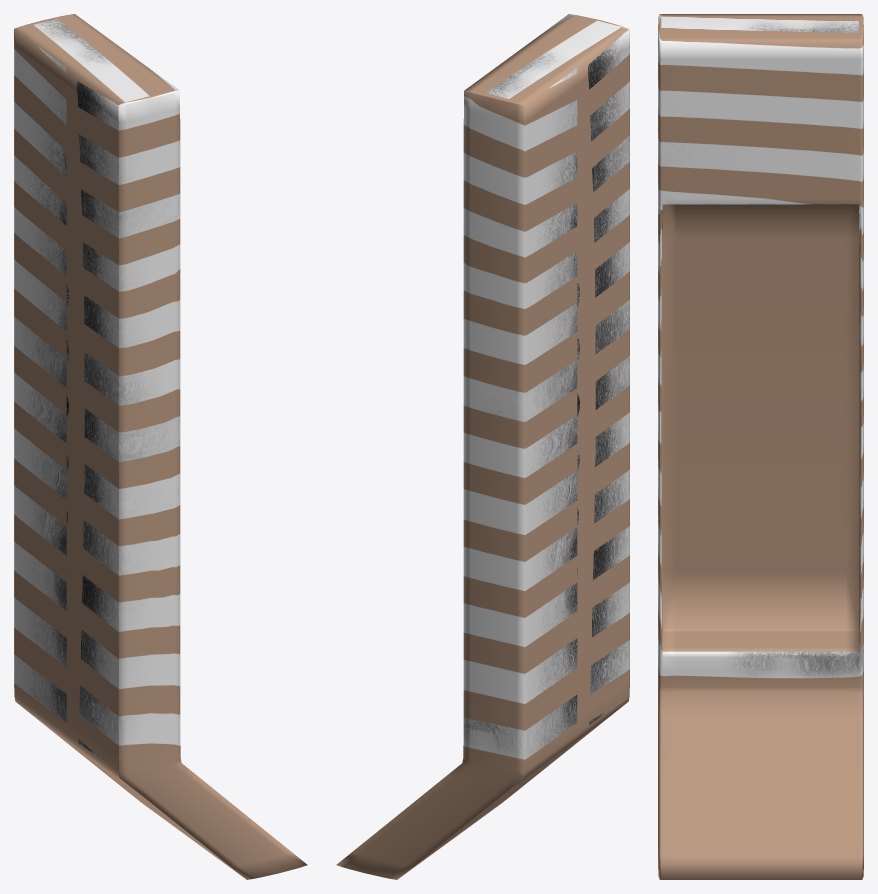
The model's file is Lab_el_join_light_standart_angle.fbx.
3 renders of one model, left to right at view 1: azimuth 30°, elevation 25°; view 2: azimuth 150°, elevation 25°; view 3: azimuth 270°, elevation 25°, orthographic. The views are drawn at different scales.
Visible parts, largest first — view 1: Object004; view 2: Object004; view 3: Object004.
Boxes of the visible parts, left/top/right/bottom form: Object004: left=14, top=14, right=307, bottom=879; Object004: left=336, top=14, right=629, bottom=879; Object004: left=658, top=14, right=863, bottom=879.
Bounding box in the file's own units: 73.49 × 300 × 71.91.
